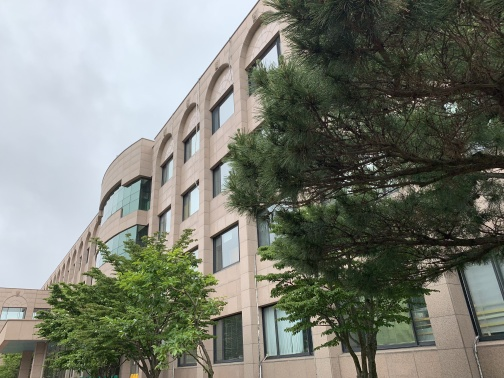Natural Science2: (27, 64, 291, 305)
